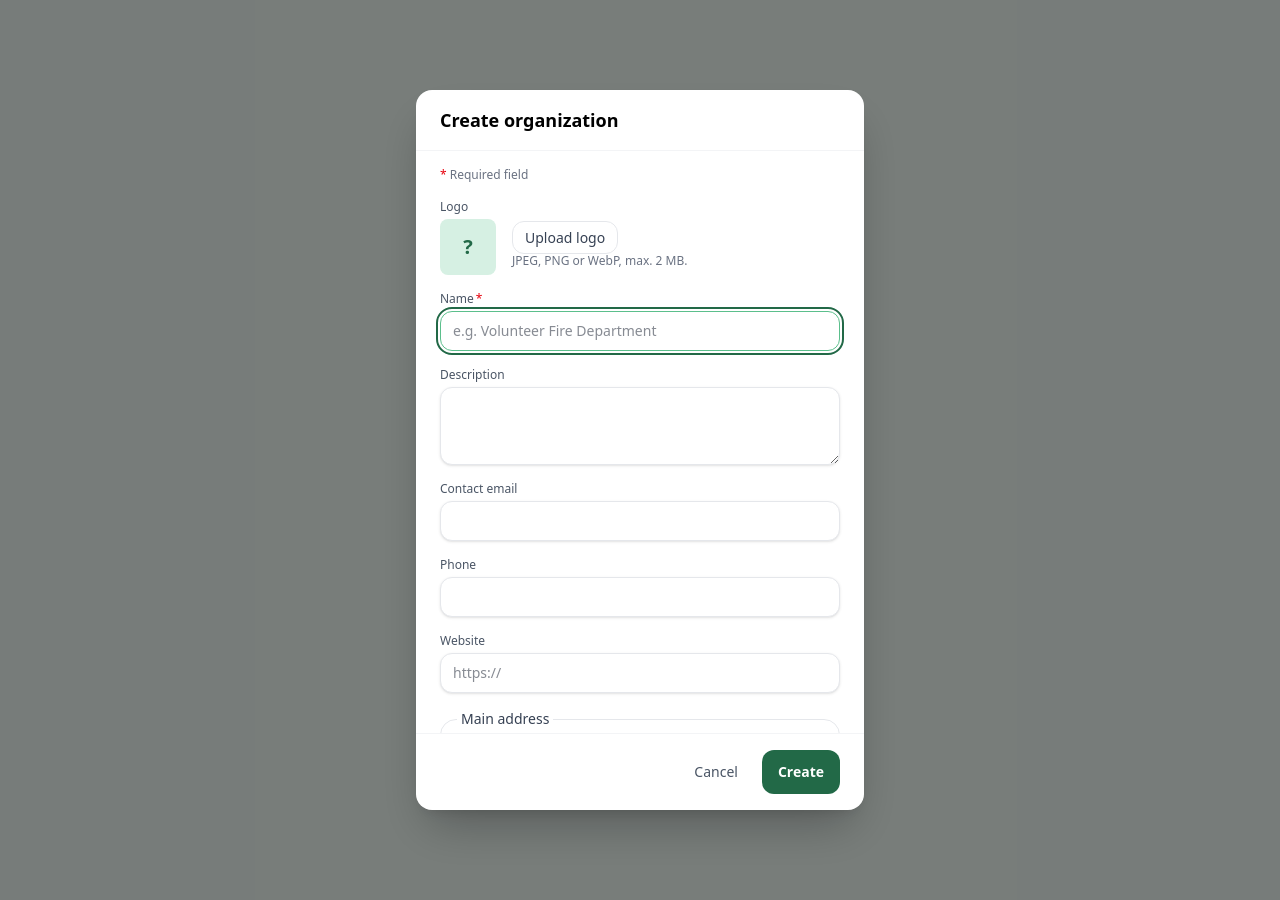
CreateOrganizationModal validation › blocks a blank submit with an inline error instead of a native tooltip
What coordinates should you click on to do the following:
click the button with test id "modal-submit"
I would click on:
 (801, 772)
Its box is [762,750,840,794].
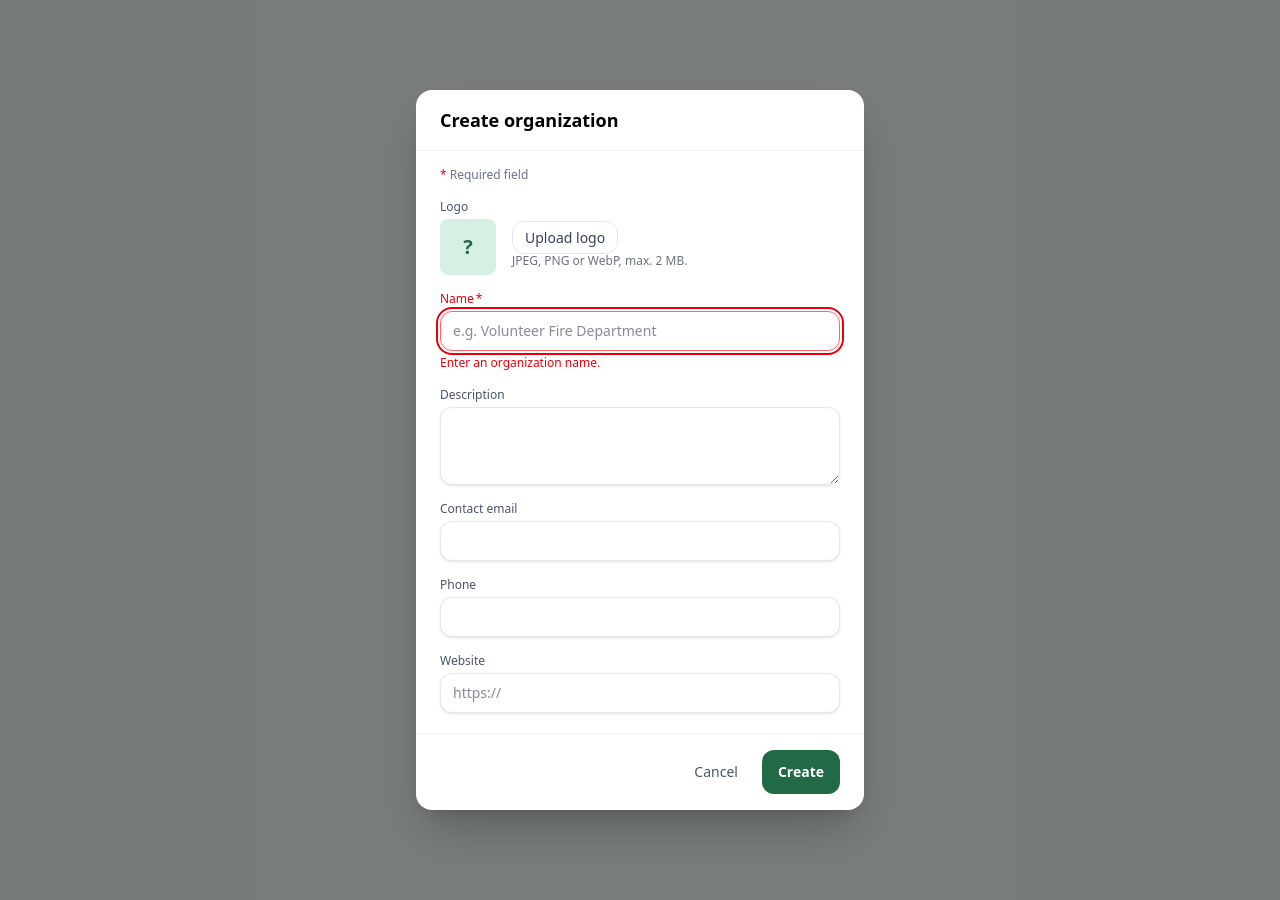
Expected: the field with id "create-org-name" is shown, [440,311,840,351]
Expected: the message "Enter an organization name." is shown, [440,354,600,371]
